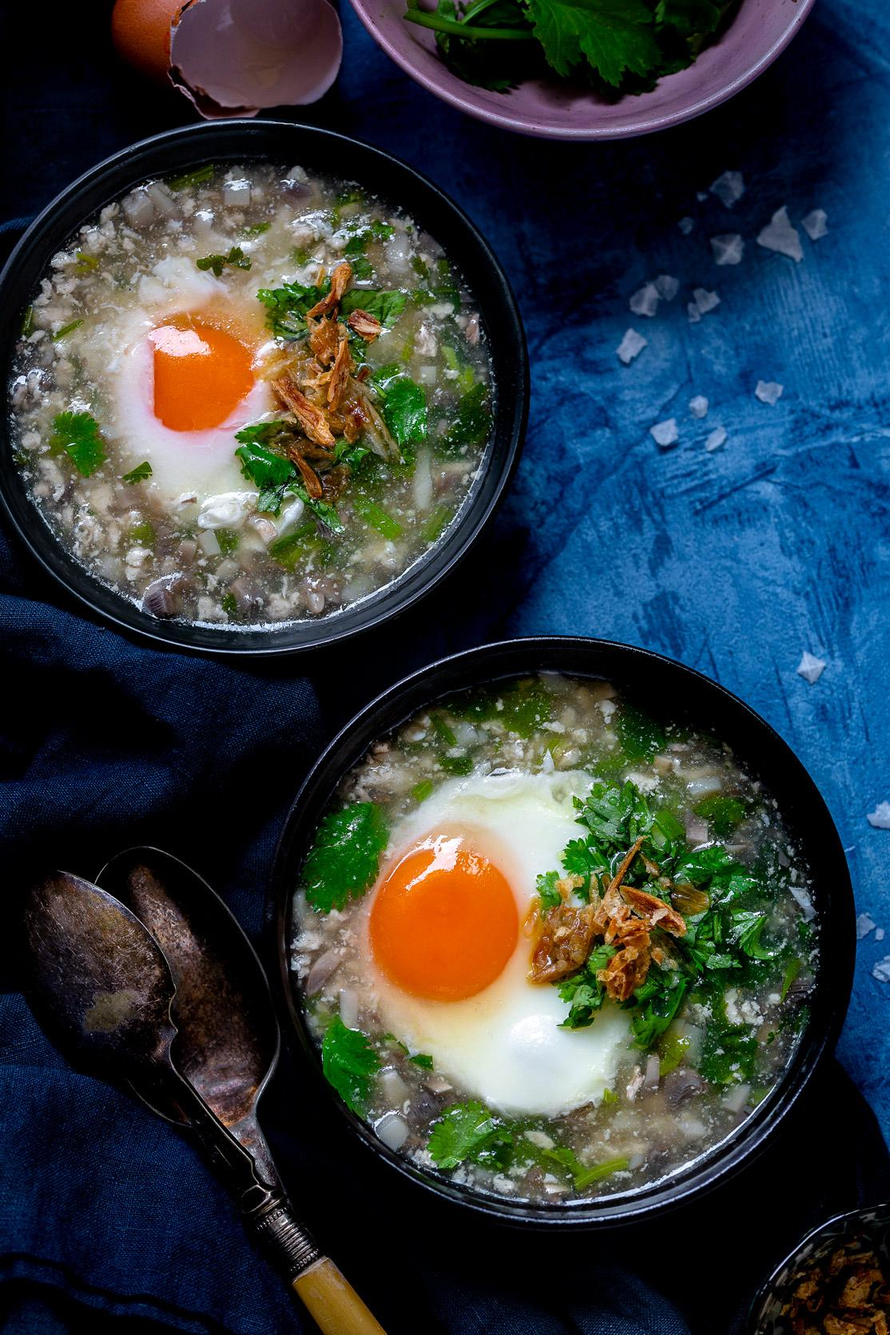Braised Crucian Carp: (273, 667, 797, 1226), (0, 121, 515, 656)
